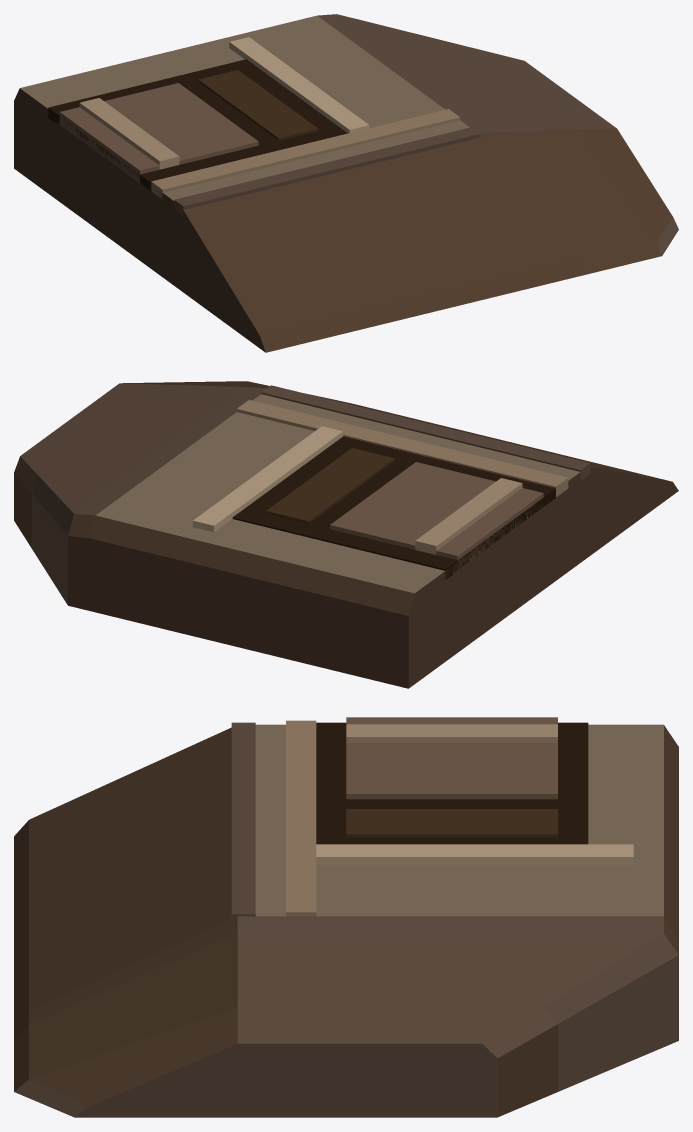
Rendered from newsh3-86.glb.
The picture shows the model from 3 angles, top to bottom: view 1: azimuth 30°, elevation 25°; view 2: azimuth 150°, elevation 25°; view 3: azimuth 270°, elevation 25°; orthographic projection. The views are drawn at different scales.
Visible parts, largest first — view 1: newsh3-86; view 2: newsh3-86; view 3: newsh3-86.
Boxes of the visible parts, x1=… form: newsh3-86: x1=14, y1=14, x2=678, y2=352; newsh3-86: x1=14, y1=381, x2=678, y2=688; newsh3-86: x1=14, y1=717, x2=678, y2=1117.
Size of the model in its own units: 1.83 by 0.38 by 1.83.
